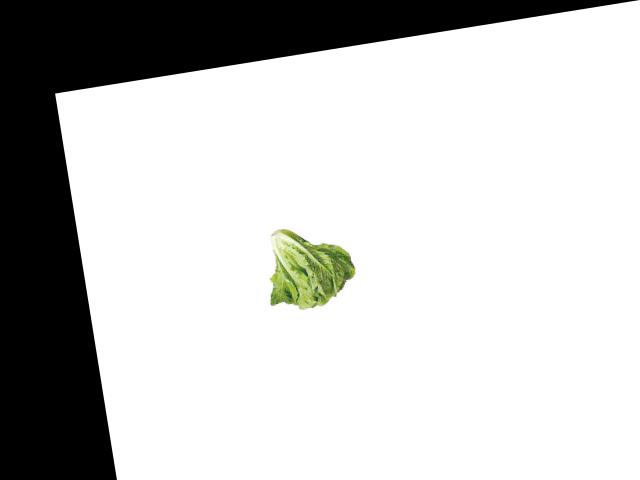lettuce: (256, 213, 361, 318)
